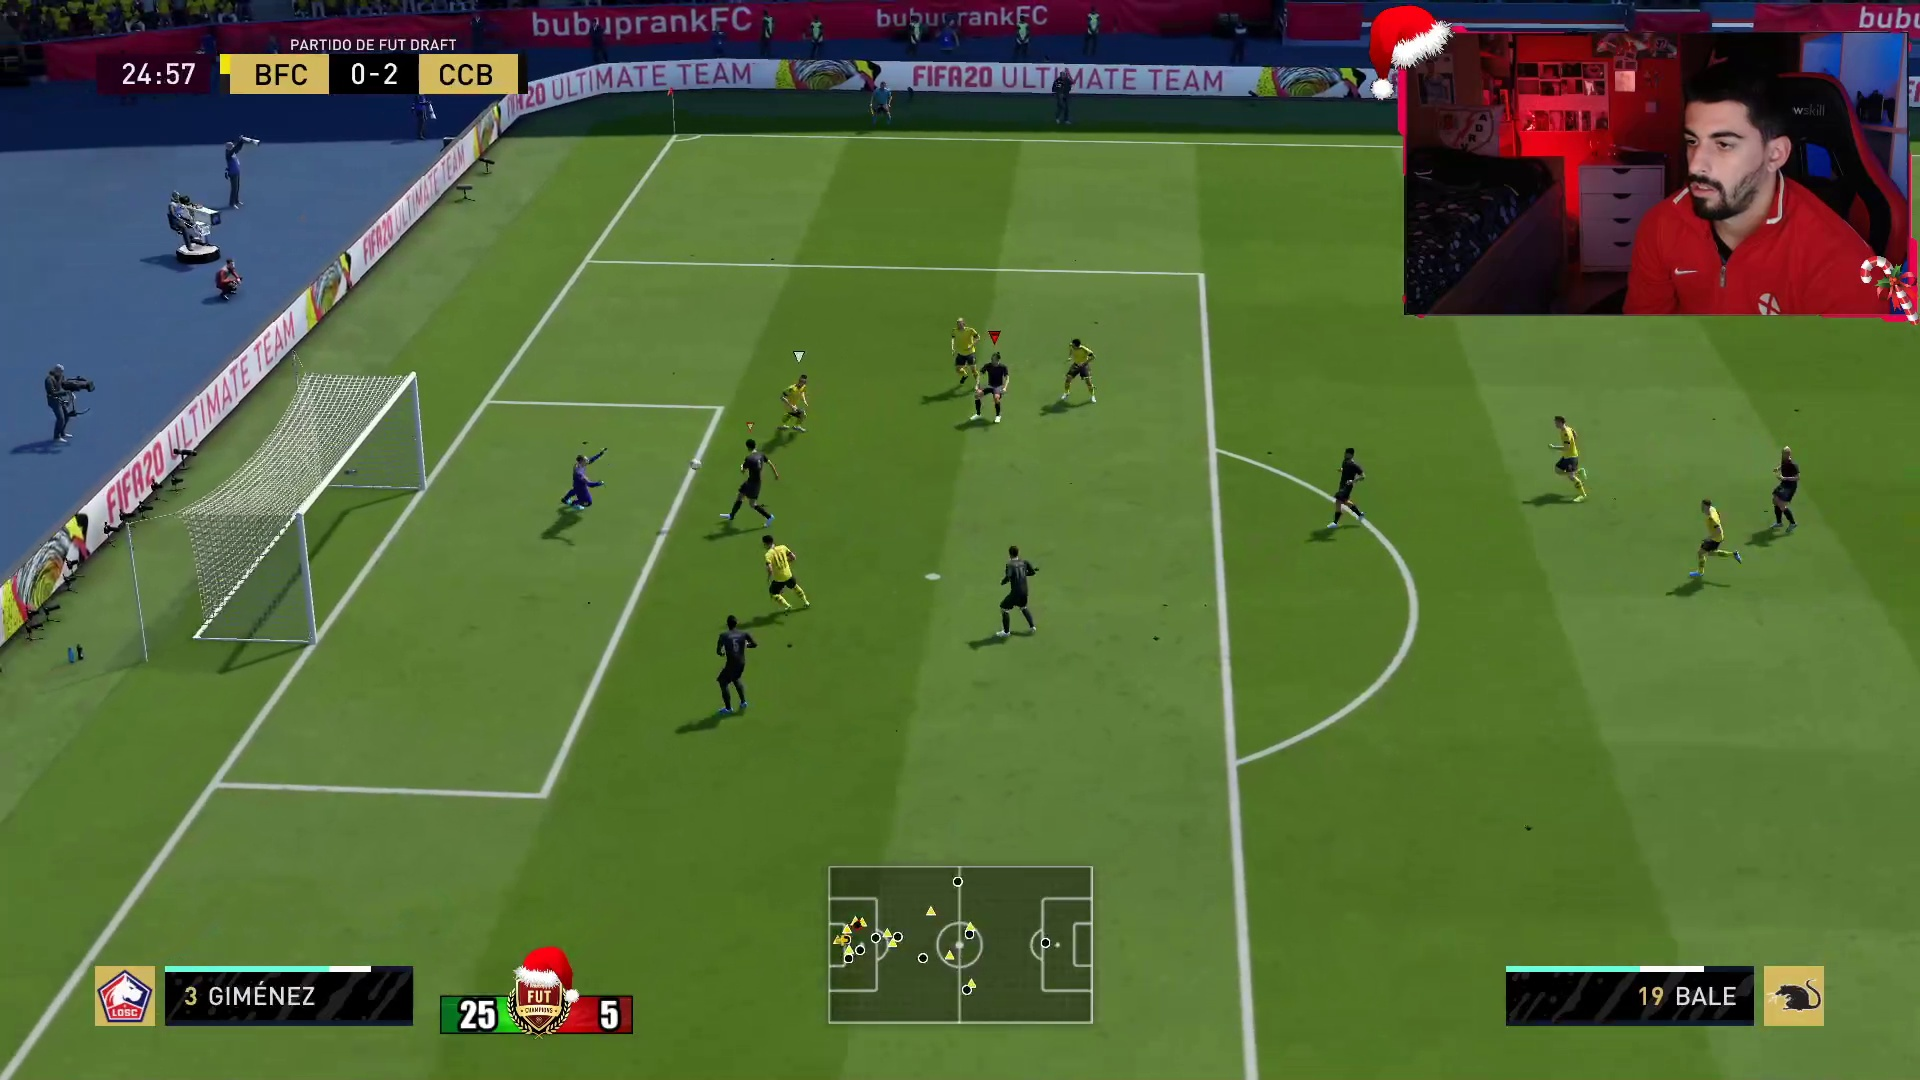player: (1679, 492, 1747, 607), (710, 422, 780, 532), (532, 437, 608, 526), (705, 611, 766, 717), (1535, 406, 1596, 511), (986, 537, 1045, 641), (757, 526, 821, 618), (1325, 439, 1375, 536), (770, 361, 816, 451), (967, 346, 1016, 424), (1055, 330, 1102, 407), (945, 308, 988, 390)
